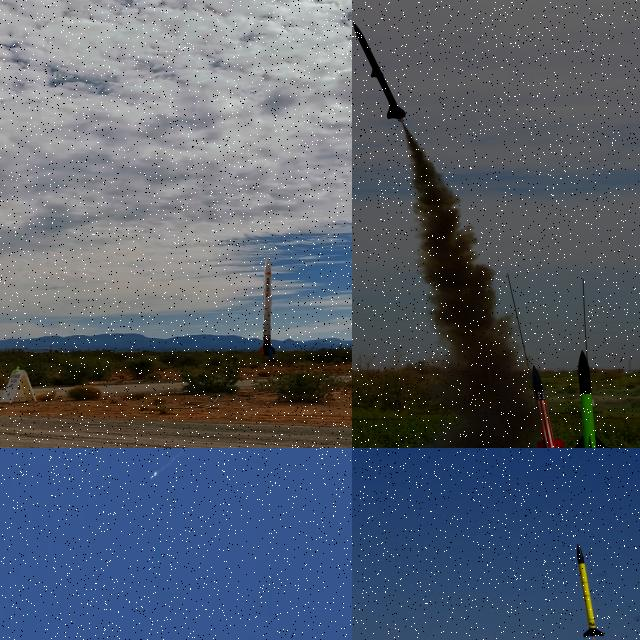Rocket: (352, 21, 409, 122), (572, 349, 609, 448), (531, 364, 565, 448), (575, 543, 605, 638), (258, 256, 275, 358), (151, 471, 157, 479)
